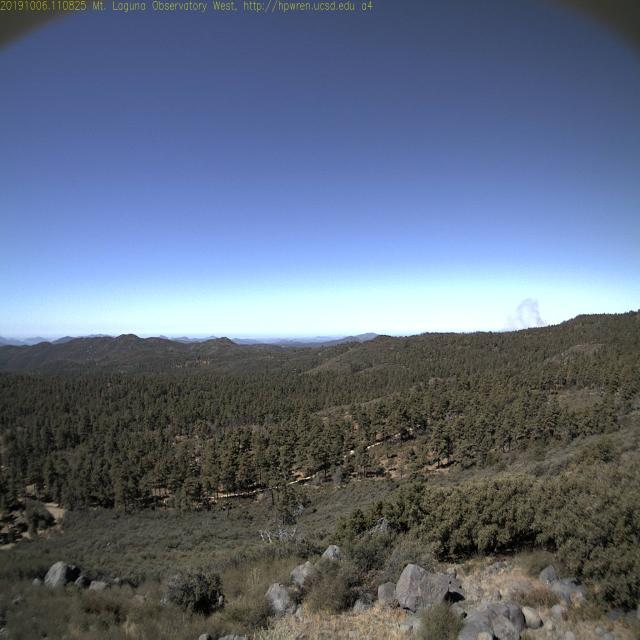smoke: (506, 294, 548, 332)
